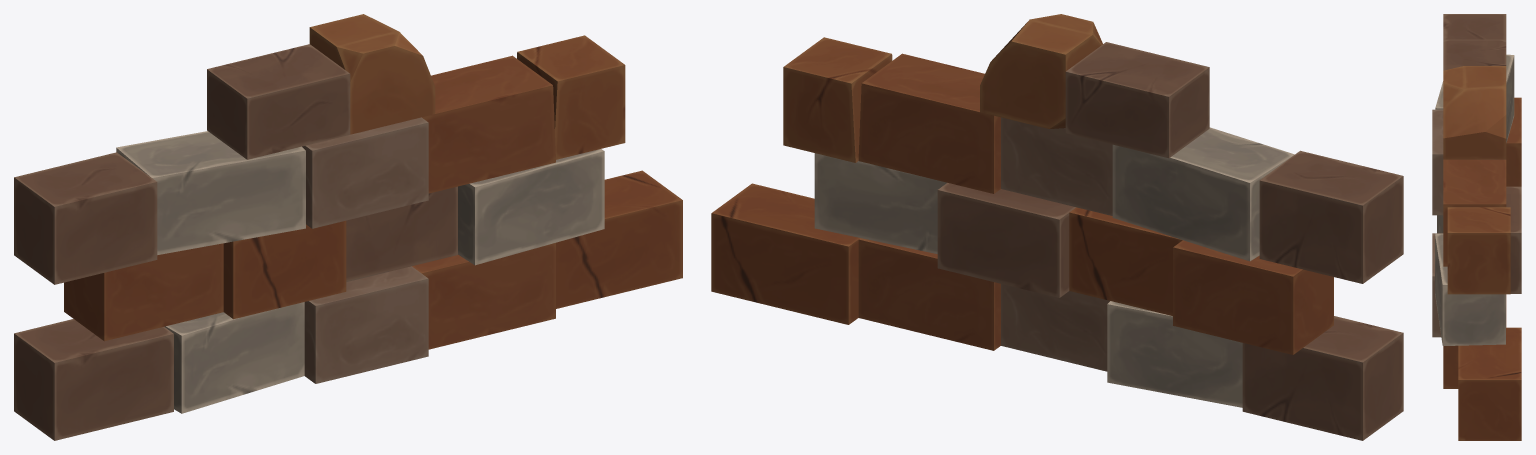
File: Camp1_Brick4.fbx
3 views of the same model, side by side, from view 1: azimuth 30°, elevation 25°; view 2: azimuth 150°, elevation 25°; view 3: azimuth 270°, elevation 25° (orthographic). The views are drawn at different scales.
Visible parts, largest first — view 1: polySurface1495; view 2: polySurface1495; view 3: polySurface1495.
Part boxes in pixels (bbox=[...]): polySurface1495: bbox=[14, 14, 682, 440]; polySurface1495: bbox=[711, 14, 1403, 440]; polySurface1495: bbox=[1432, 14, 1521, 440].
Size of the model in its own units: 206 by 96.51 by 32.05.
Materials: 1 (1 with a texture image).
